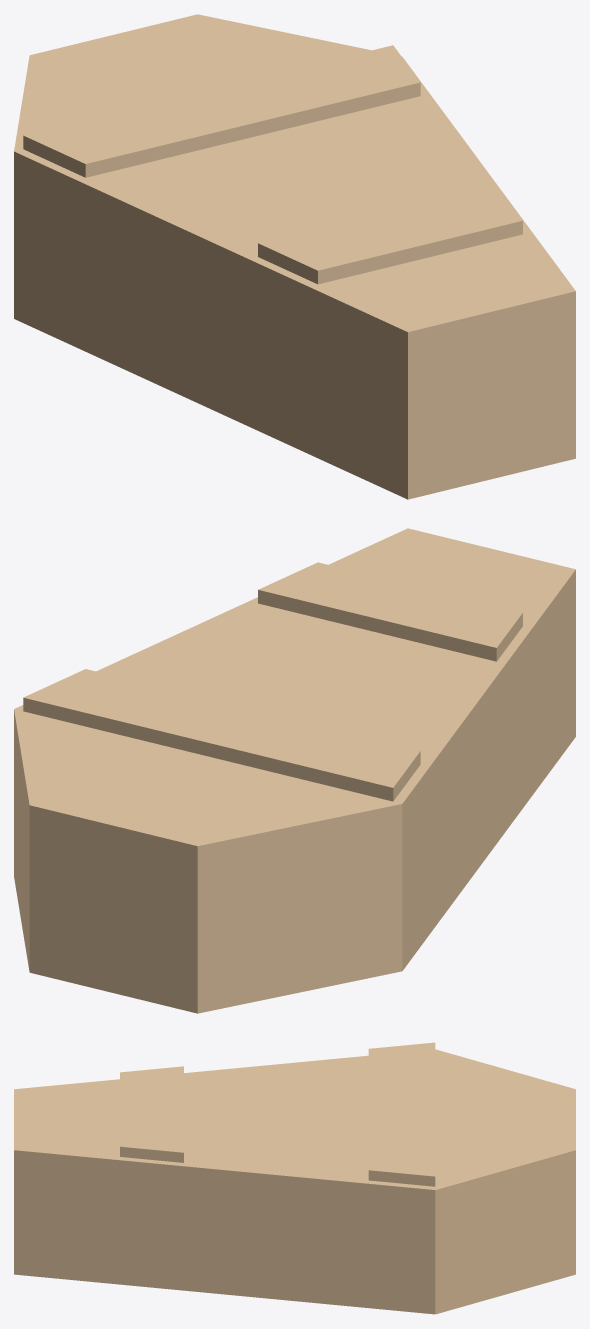
The model's file is coffin.glb.
3 views of the same model, one above another, from view 1: azimuth 30°, elevation 25°; view 2: azimuth 150°, elevation 25°; view 3: azimuth 270°, elevation 25° (orthographic). The views are drawn at different scales.
Visible parts, largest first — view 1: coffinLid, coffin(Clone); view 2: coffinLid, coffin(Clone); view 3: coffinLid, coffin(Clone).
Part boxes in pixels (left/top/right/bottom): coffinLid: left=14, top=14, right=575, bottom=358; coffin(Clone): left=14, top=178, right=575, bottom=499; coffinLid: left=14, top=528, right=575, bottom=872; coffin(Clone): left=14, top=596, right=575, bottom=1013; coffinLid: left=14, top=1042, right=575, bottom=1209; coffin(Clone): left=14, top=1170, right=575, bottom=1314.
Size of the model in its own units: 0.5928 by 0.2642 by 1.
